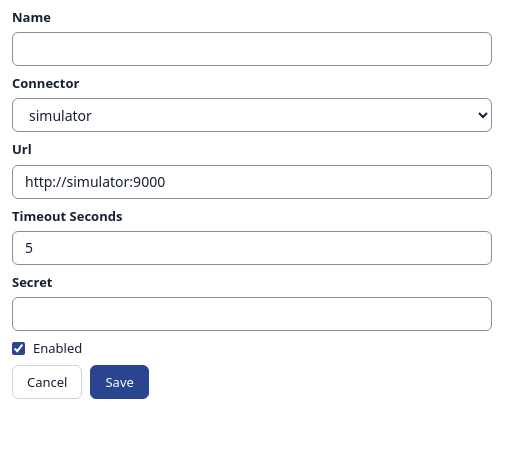
Test: SourceForm, adding a source › raises none when the POST is refused: the error line is the feedback and the form stays open
In the field labelled "Name": (252, 49) [12, 32, 492, 66], type "sim"
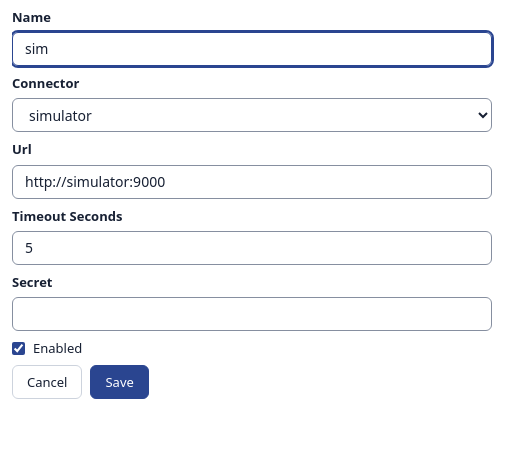
Click the button "Save": (120, 382) [90, 365, 149, 399]
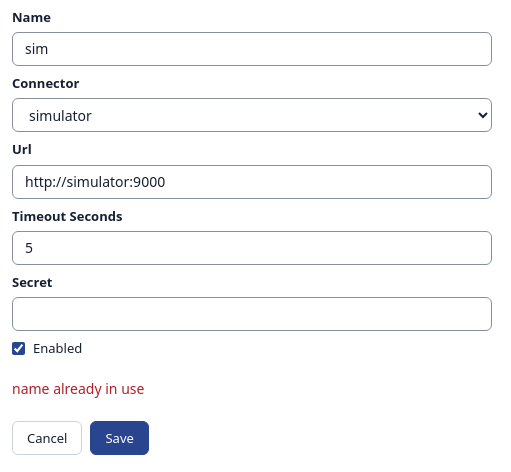
Check: the message "name already in use" is shown, box [12, 379, 144, 398]
